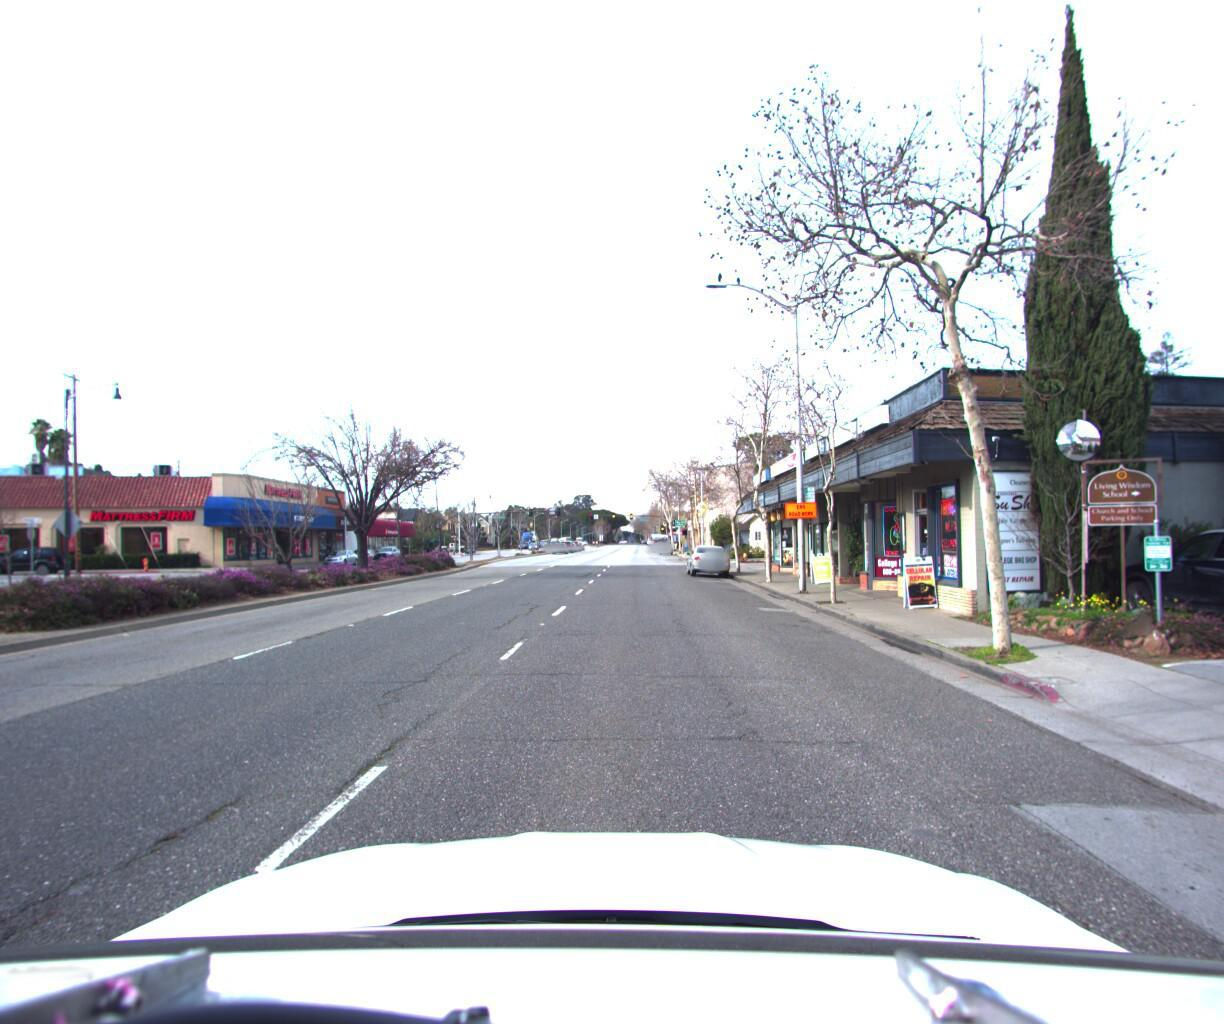car: (1090, 504, 1224, 641), (0, 544, 79, 575), (682, 539, 731, 573), (1214, 533, 1224, 635), (319, 547, 358, 566)
